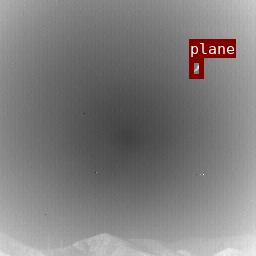plane: (189, 58, 203, 78)
